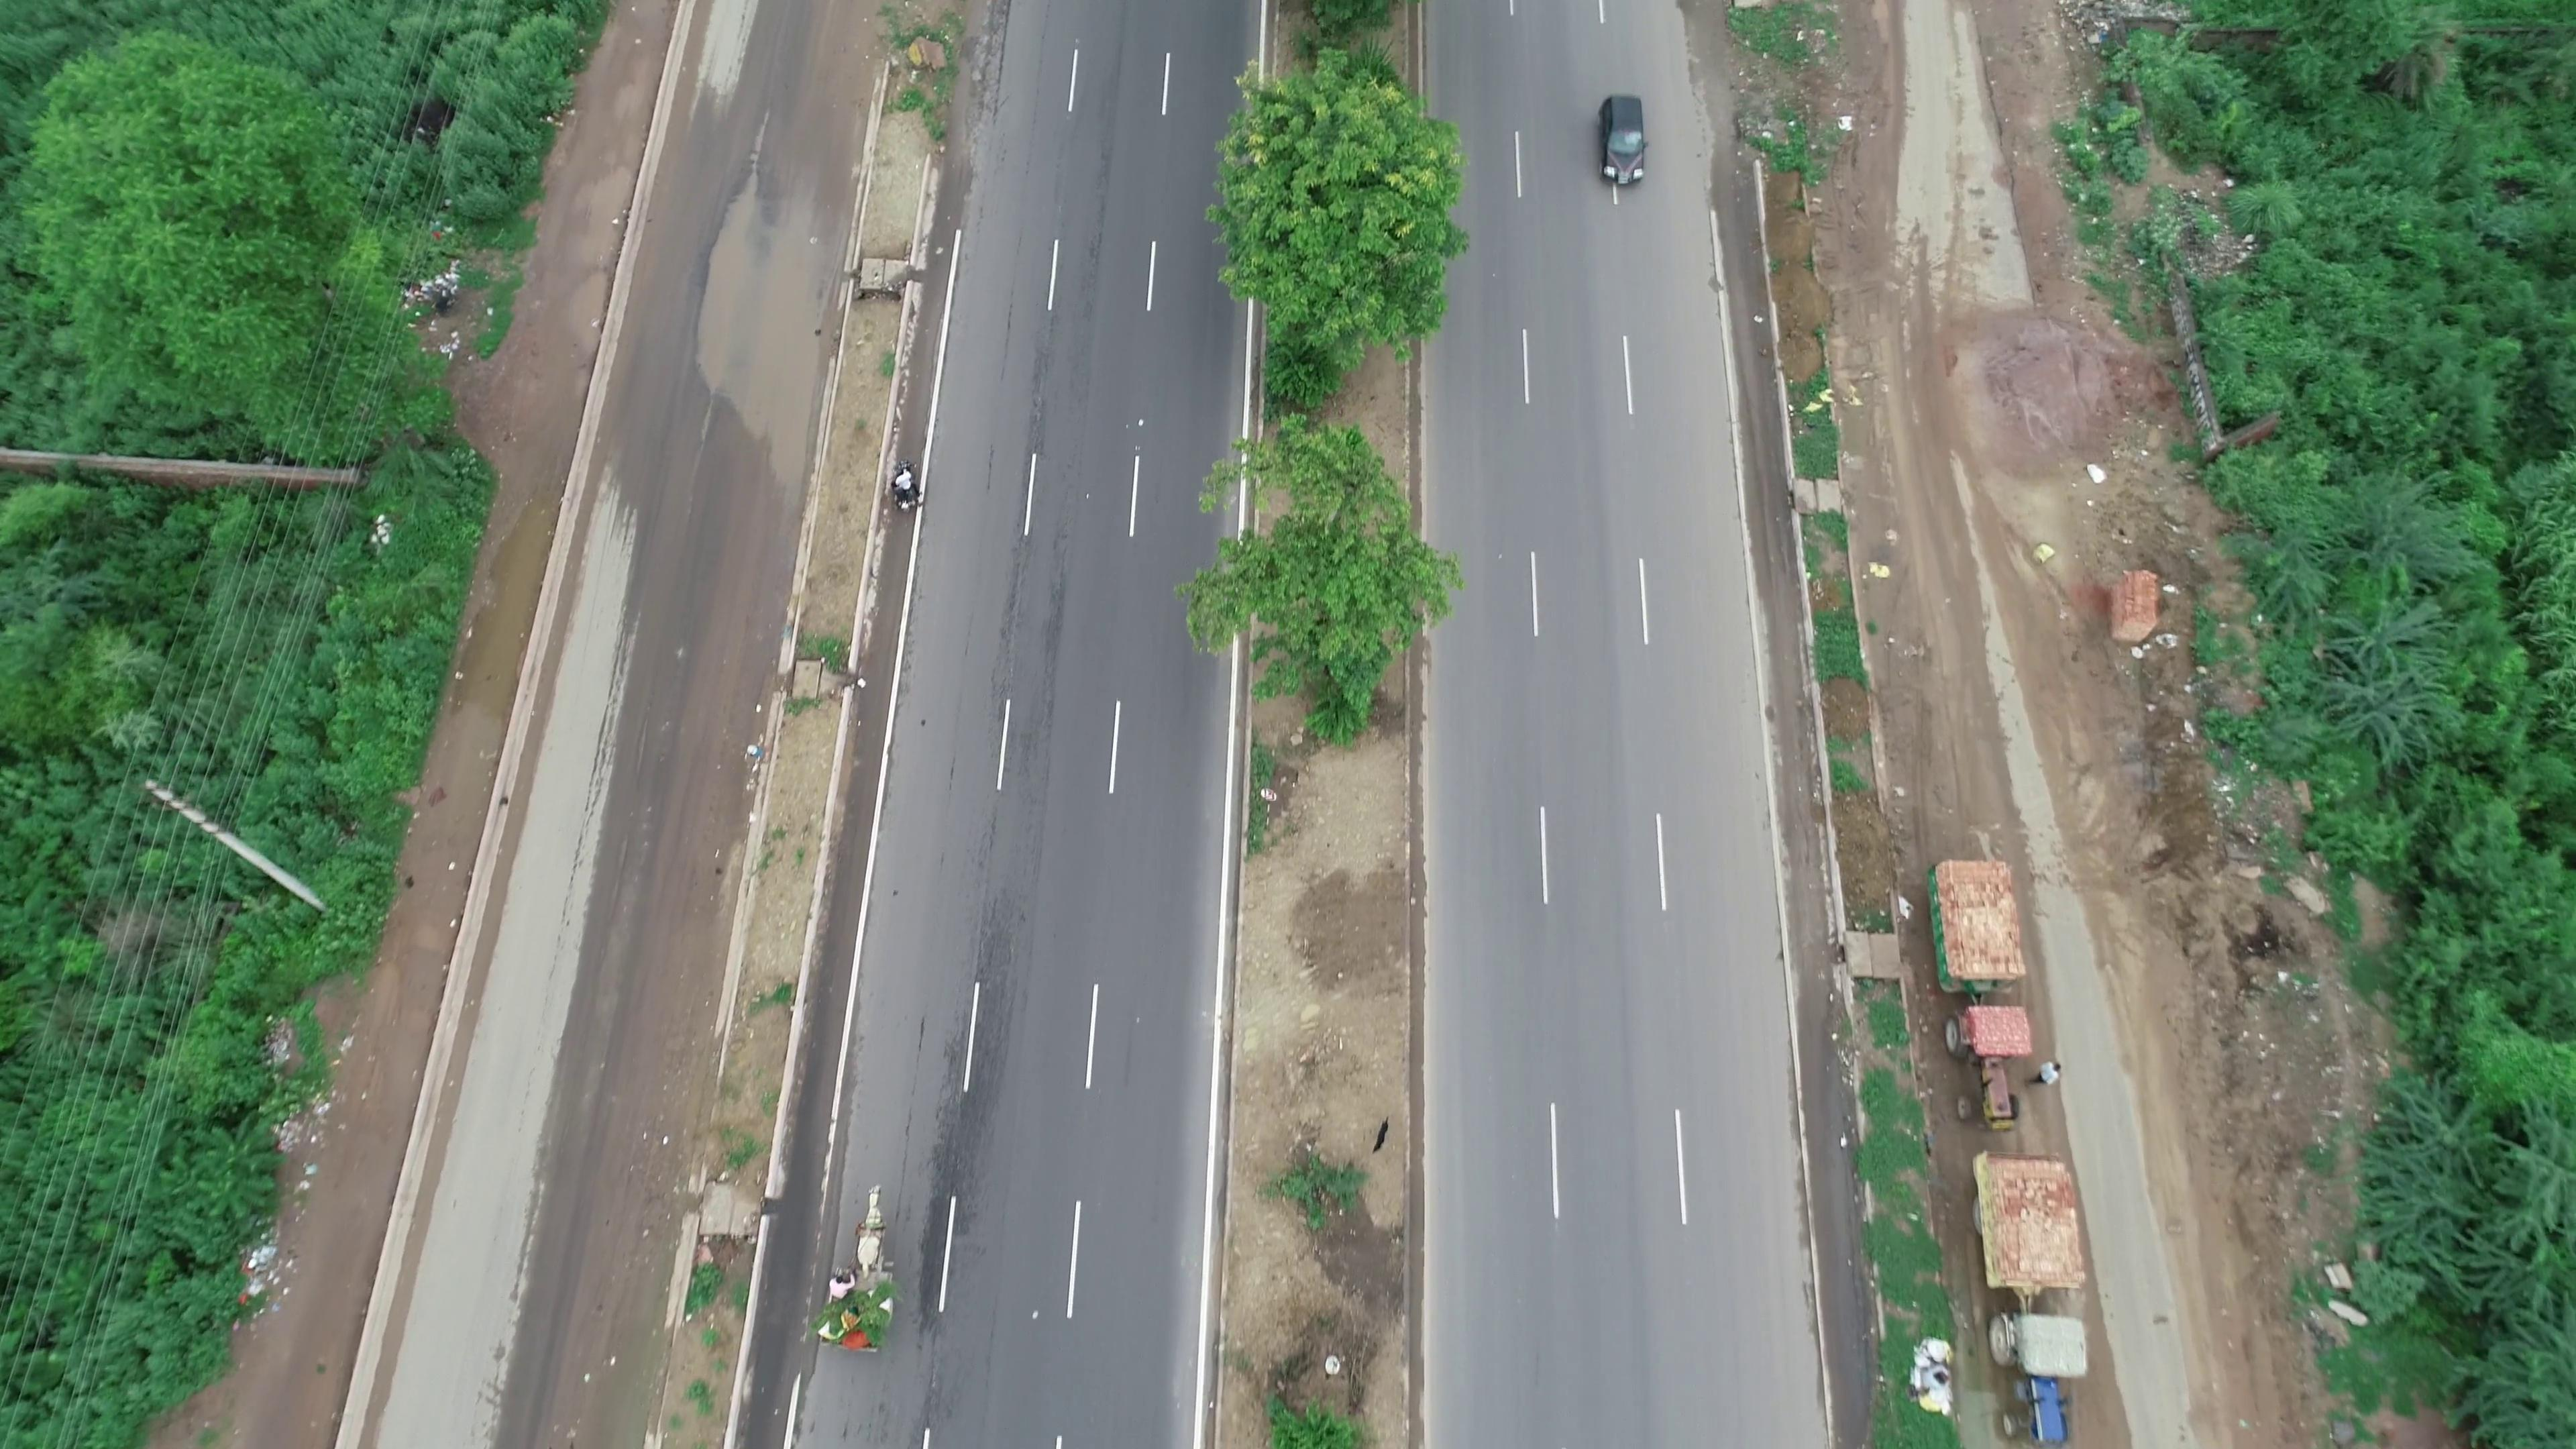Muddy_road: (1859, 453, 2088, 819), (593, 711, 738, 1115), (536, 1116, 672, 1437)
Ravelling: (991, 336, 1081, 764), (918, 916, 1017, 1168)
Waterlogging: (676, 150, 800, 497)
